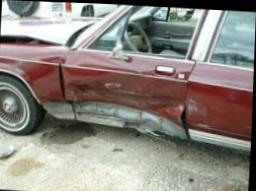Bonnet: (0, 16, 96, 43)
Door: (61, 49, 194, 134)
